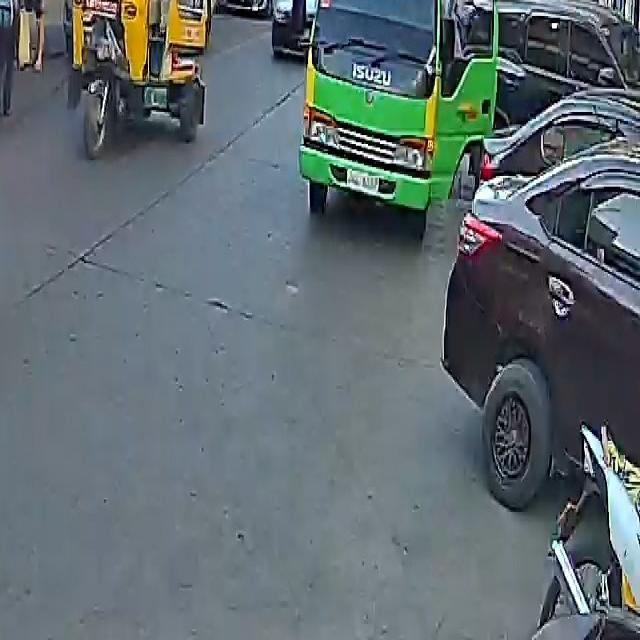car: (442, 68, 640, 530), (265, 0, 321, 60), (216, 0, 289, 16)
